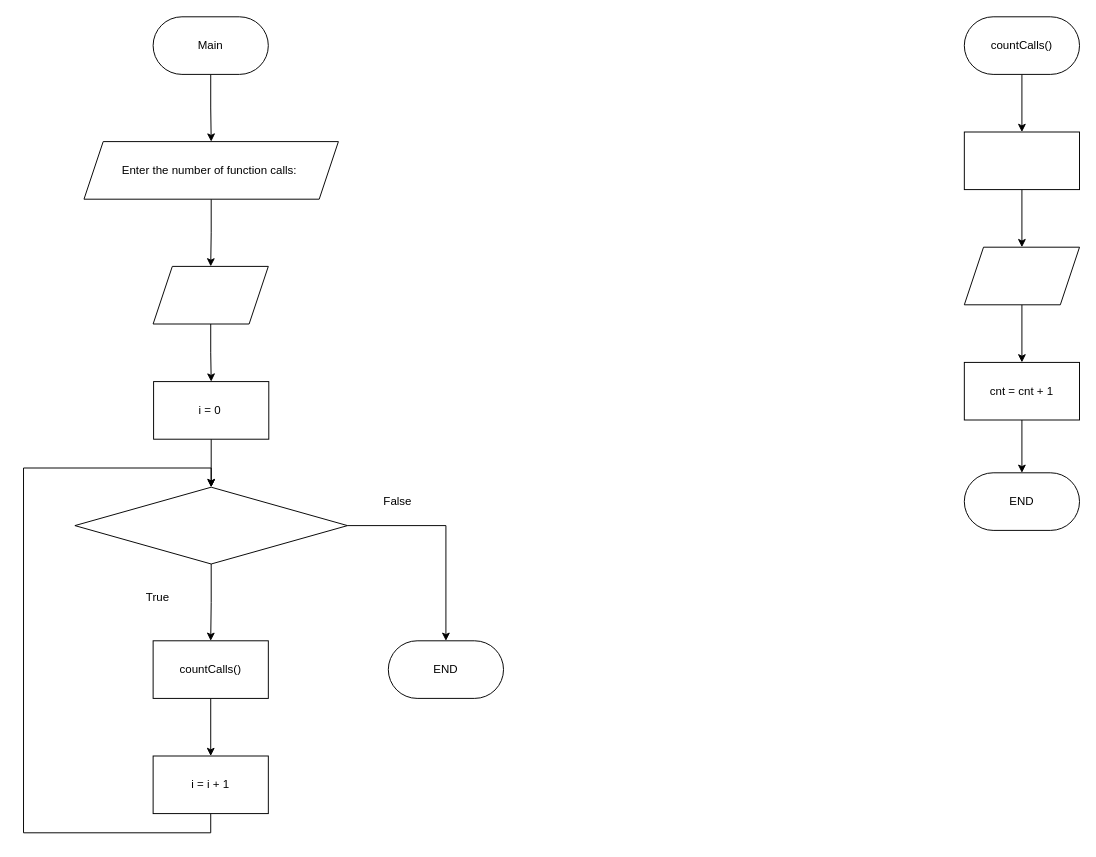
This 1096x857 diagram has some shape labels left out. Each missing label, with the box of its shape:
cnt: (963, 246, 1080, 305)
cnt = 1: (963, 131, 1080, 190)
i < numCalls: (74, 486, 348, 564)
numCalls: (152, 265, 268, 324)
